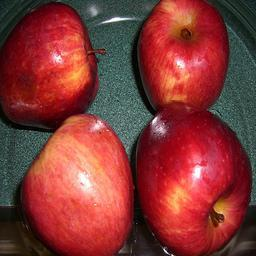apple: (136, 104, 253, 256), (19, 112, 134, 256), (1, 4, 99, 129), (135, 1, 229, 111)
